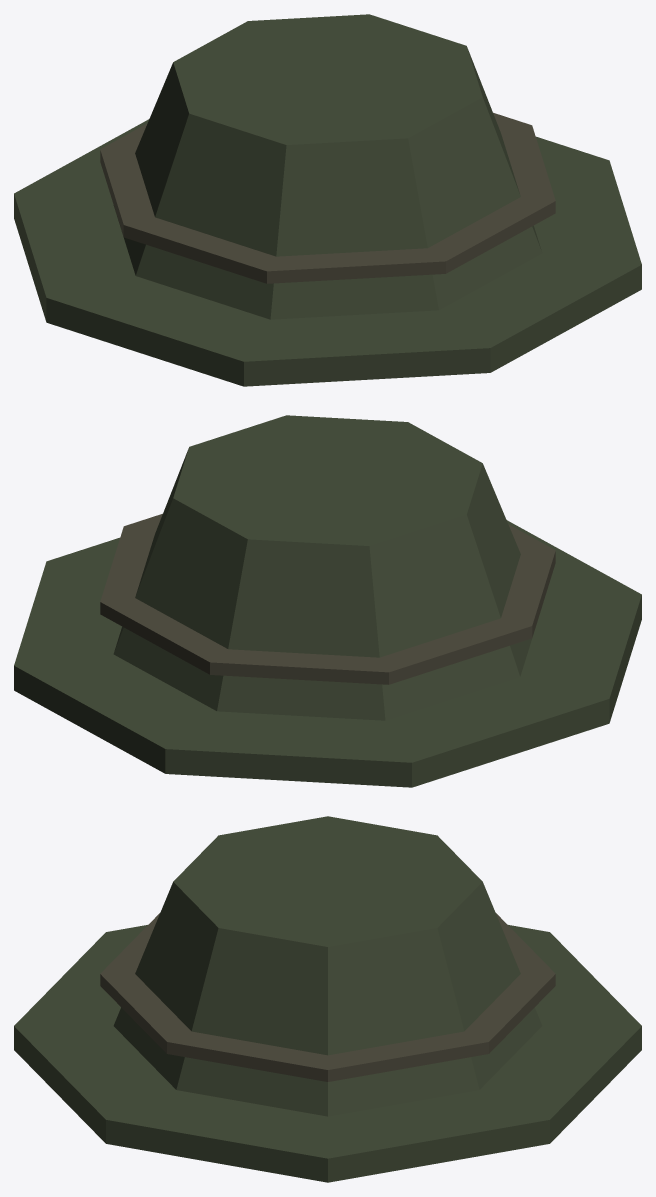
File: pith_helmet.glb
The picture shows the model from 3 angles, top to bottom: view 1: azimuth 30°, elevation 25°; view 2: azimuth 150°, elevation 25°; view 3: azimuth 270°, elevation 25°; orthographic projection. The views are drawn at different scales.
Parts seen in each view (by area): view 1: pith_helmet; view 2: pith_helmet; view 3: pith_helmet.
Part boxes in pixels (left/top/right/bottom): pith_helmet: left=14, top=14, right=641, bottom=386; pith_helmet: left=14, top=415, right=641, bottom=787; pith_helmet: left=14, top=816, right=641, bottom=1182.
Bounding box in the file's own units: 0.284 × 0.084 × 0.284.
1 material, 1 textured.
